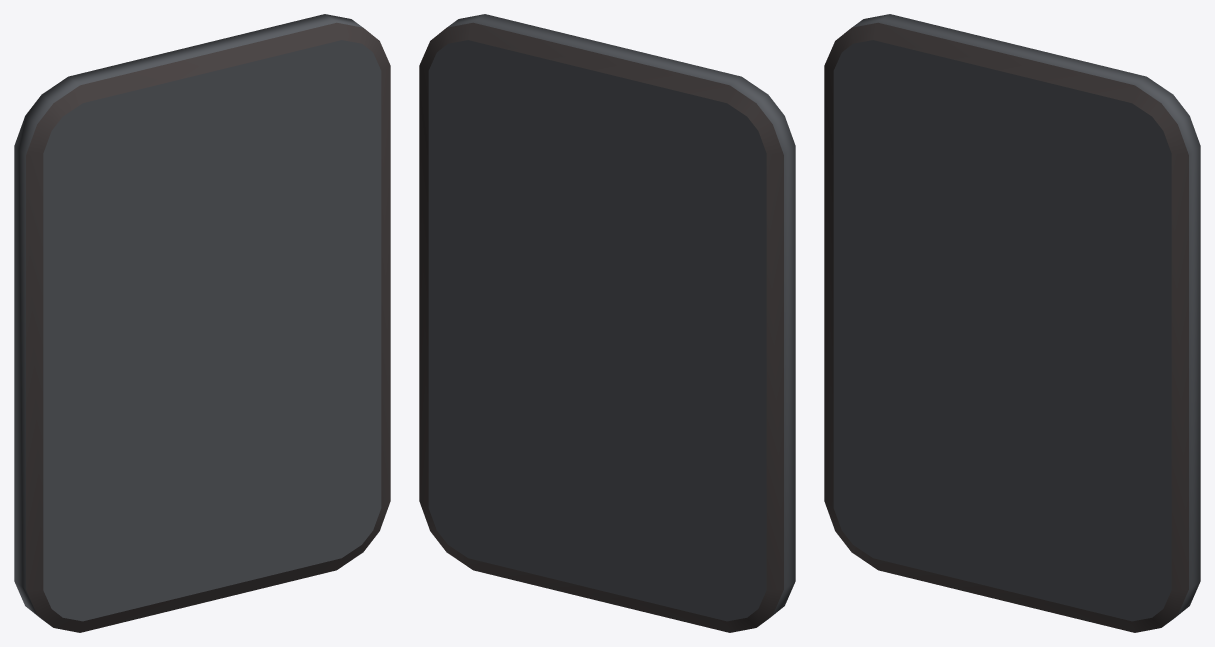
Rendered from steel_sheets.glb.
3 renders of one model, left to right at view 1: azimuth 30°, elevation 25°; view 2: azimuth 150°, elevation 25°; view 3: azimuth 330°, elevation 25°, orthographic.
Parts seen in each view (by area): view 1: SteelSheet; view 2: SteelSheet; view 3: SteelSheet.
Part boxes in pixels (left/top/right/bottom): SteelSheet: left=14, top=14, right=390, bottom=632; SteelSheet: left=419, top=14, right=795, bottom=632; SteelSheet: left=824, top=14, right=1200, bottom=632.
Bounding box in the file's own units: 0.5632 × 0.808 × 0.0529.
Materials: 1 (1 with a texture image).
